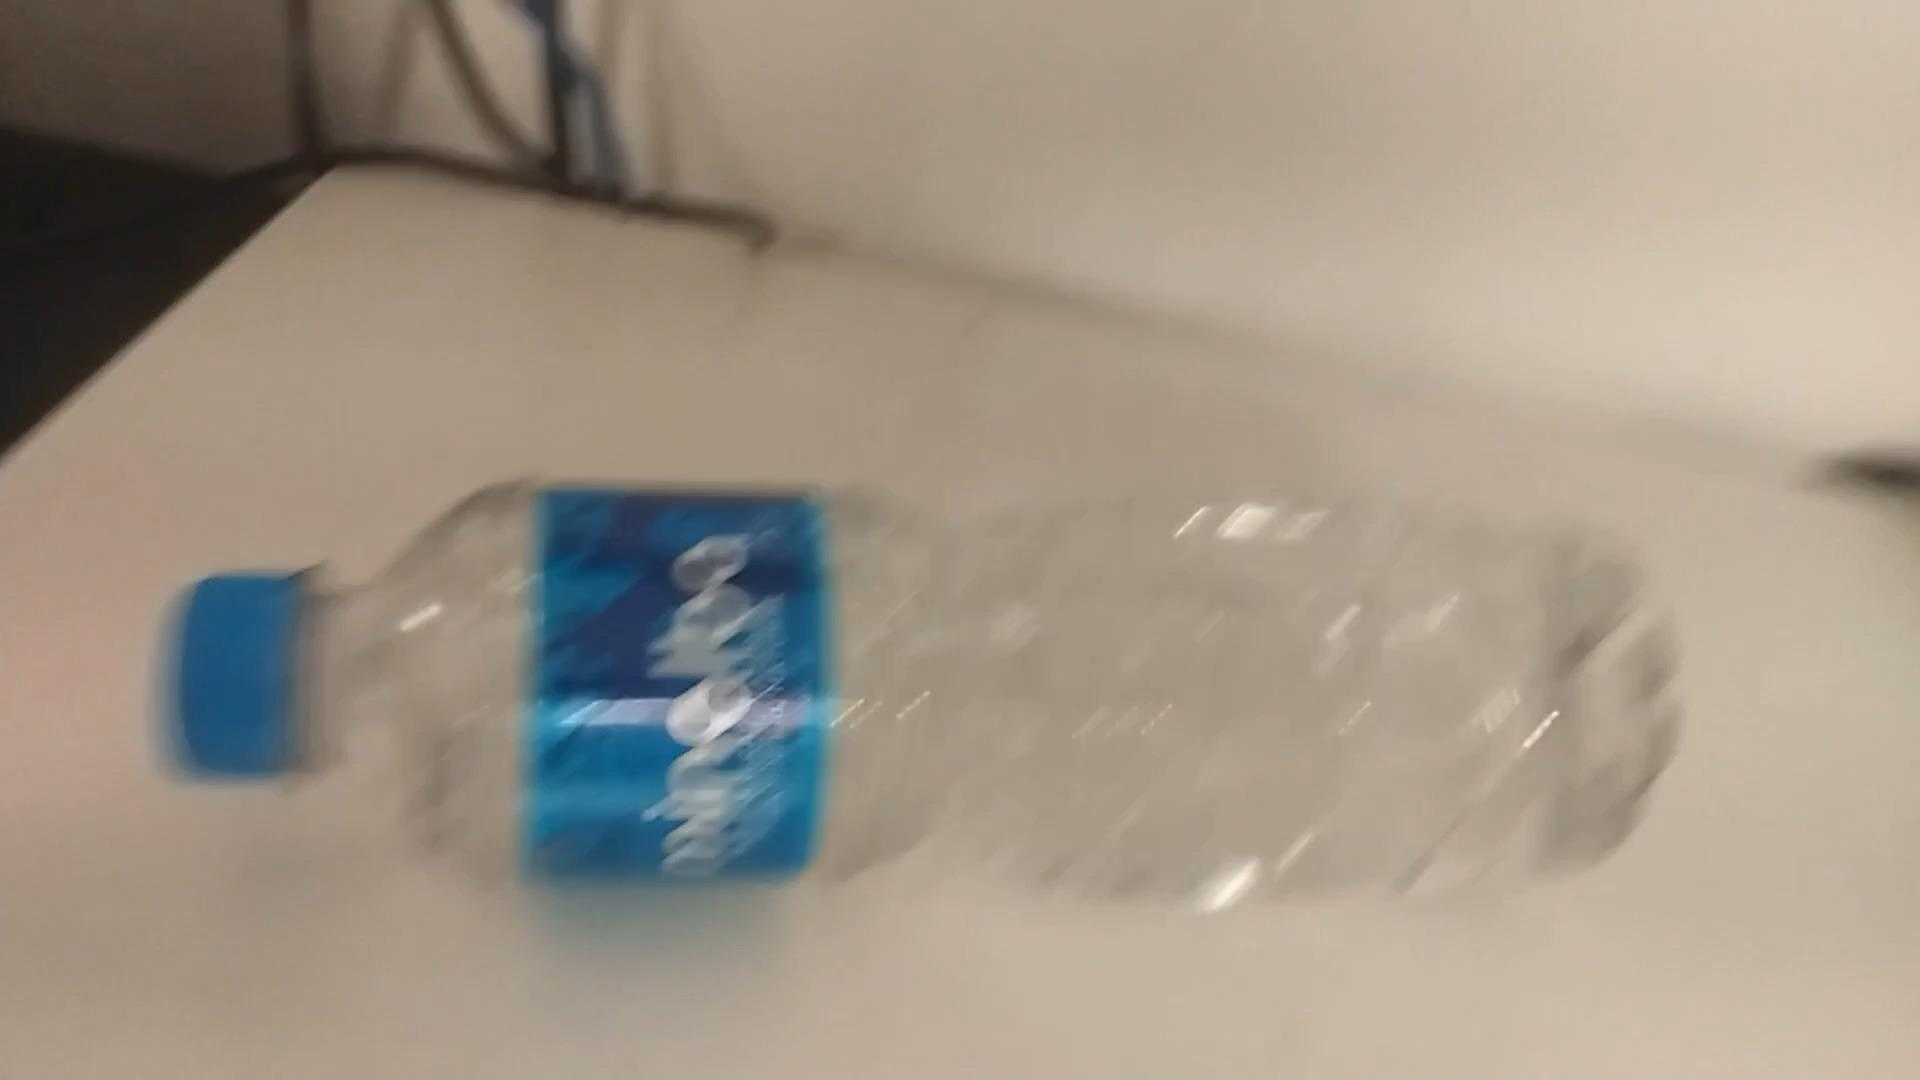agua: (185, 467, 1656, 909)
